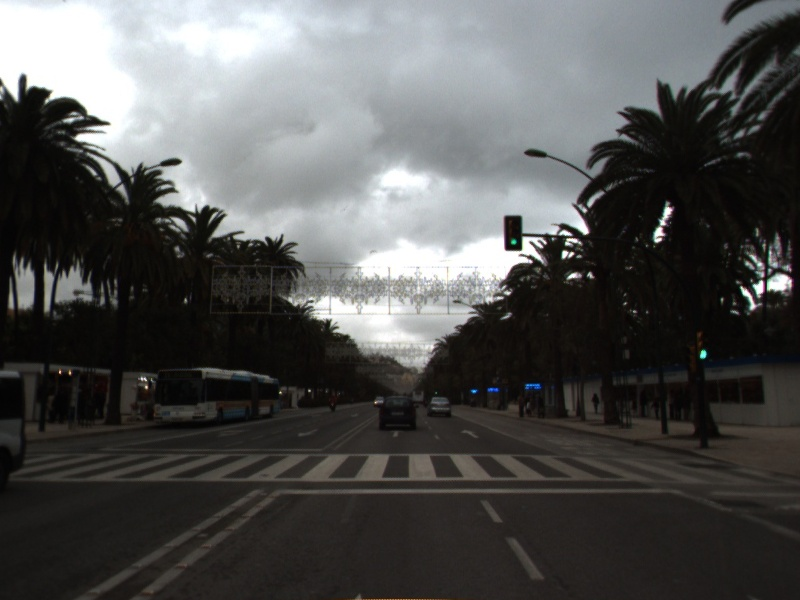STRAIGHT: (459, 427, 480, 440), (387, 428, 406, 438)
